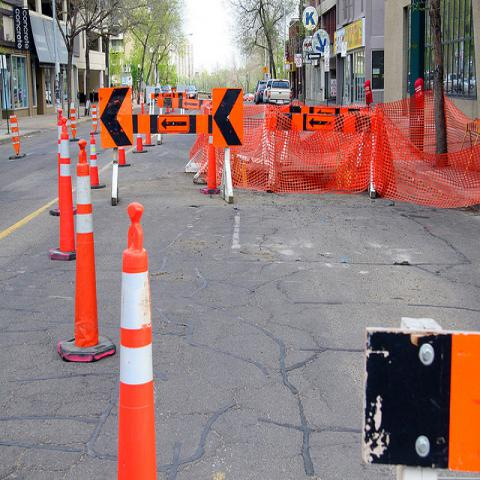car: (263, 77, 288, 103), (268, 80, 294, 104), (254, 81, 267, 101), (185, 85, 197, 98), (160, 84, 172, 94), (155, 87, 163, 101), (243, 93, 254, 101)
